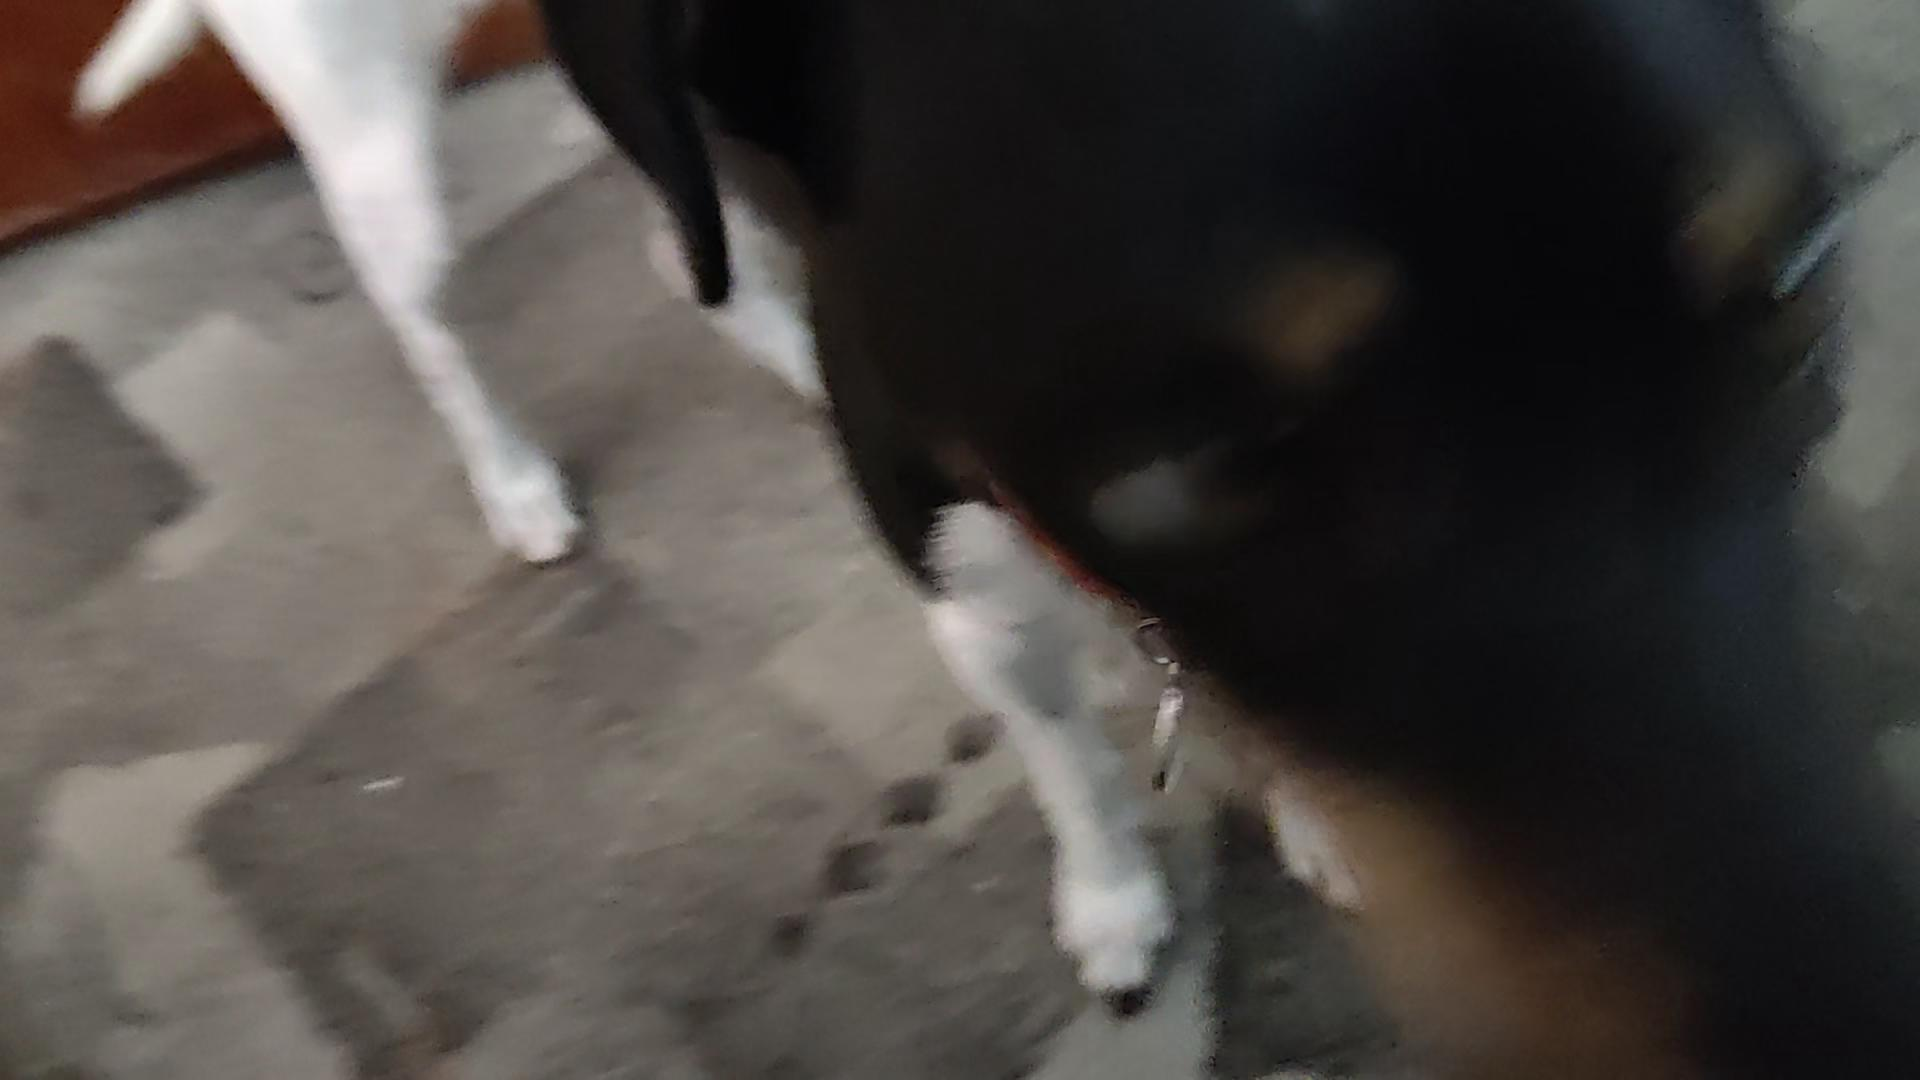Dog: (58, 0, 1919, 1080)
